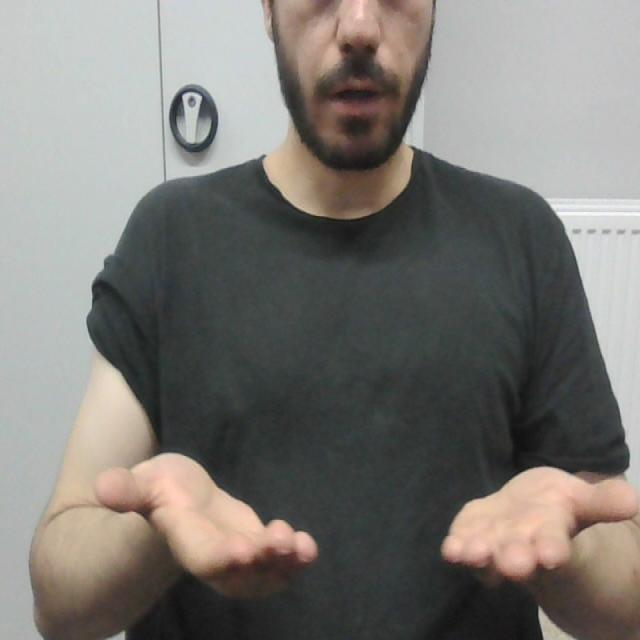Evet: (91, 445, 640, 604)
